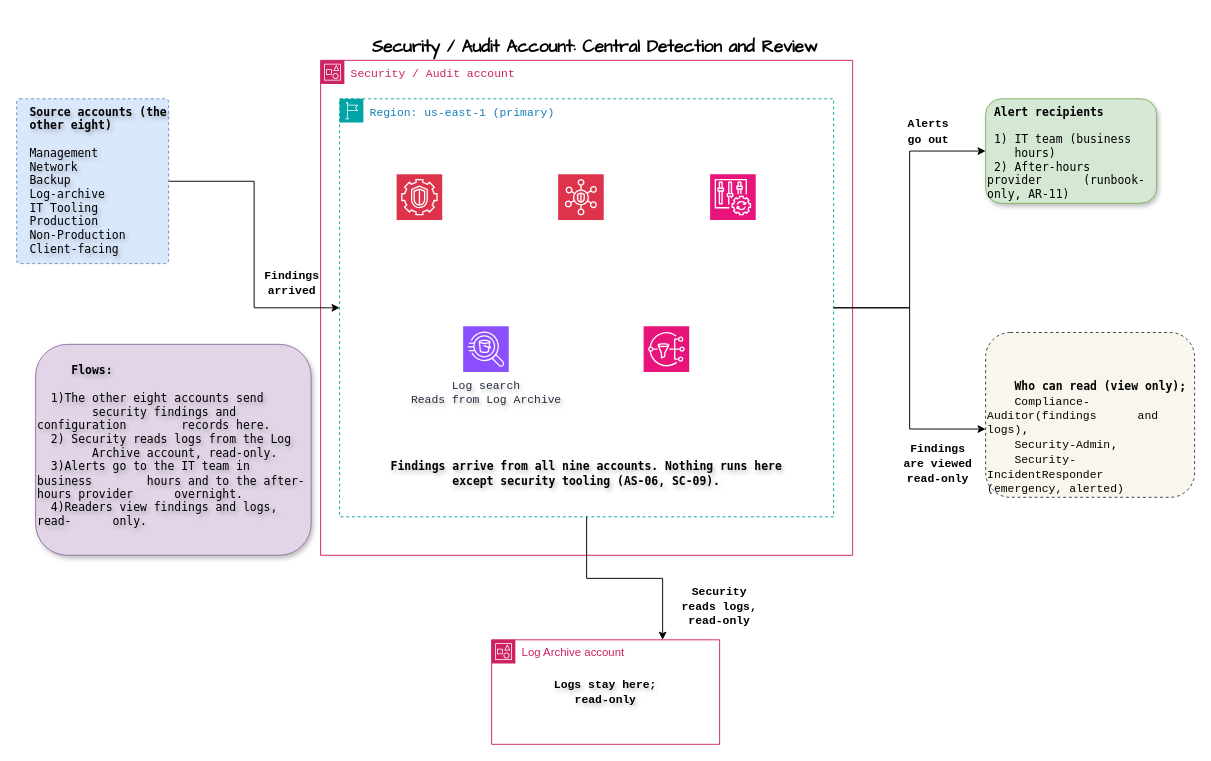
Some shapes in this 1211 by 761 pixel diagram are drawn without their labels. Each missing label, with the centre of its shape:
"Alert routing Day-team & after-hours provider" goes at pixel 666 348.
"Configuration tracking AWS Config" goes at pixel 732 196.
"Security findings Security Hub" goes at pixel 580 196.
"Threat detection GuardDuty" goes at pixel 419 196.
